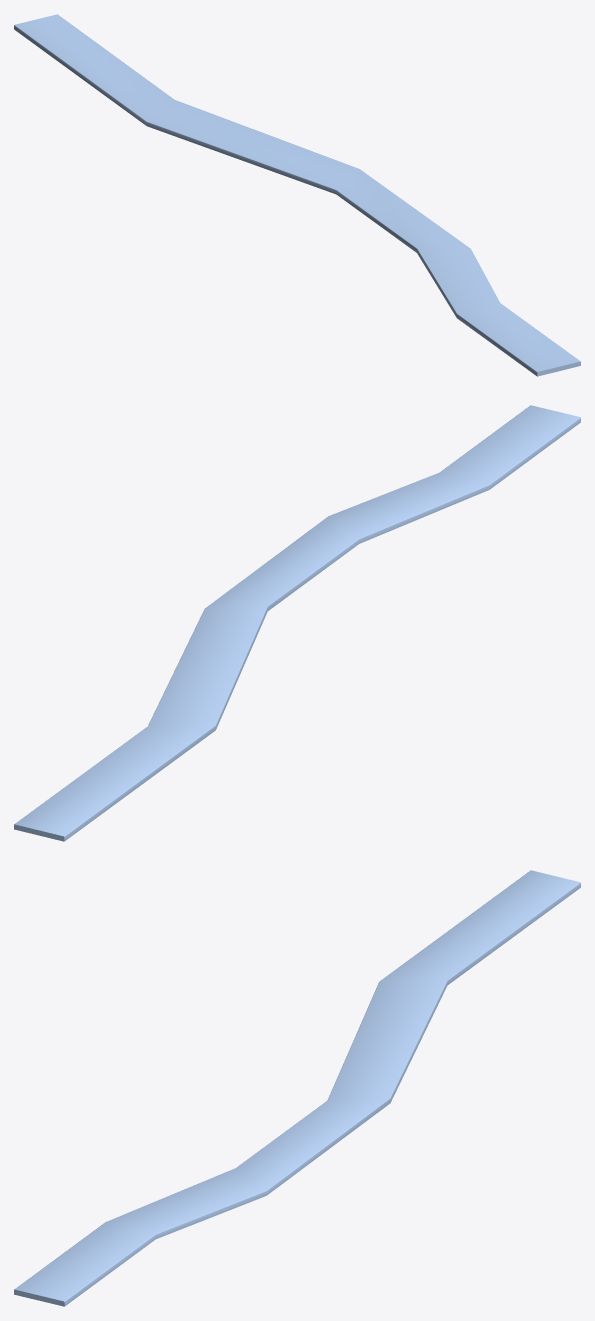
The model's file is road.fbx.
3 renders of one model, top to bottom at view 1: azimuth 30°, elevation 25°; view 2: azimuth 150°, elevation 25°; view 3: azimuth 330°, elevation 25°, orthographic. The views are drawn at different scales.
Parts seen in each view (by area): view 1: Cube; view 2: Cube; view 3: Cube.
Part boxes in pixels (left/top/right/bottom): Cube: left=14, top=14, right=580, bottom=376; Cube: left=14, top=405, right=580, bottom=841; Cube: left=14, top=870, right=580, bottom=1306.
Size of the model in its own units: 1398 by 53.33 by 10373.
